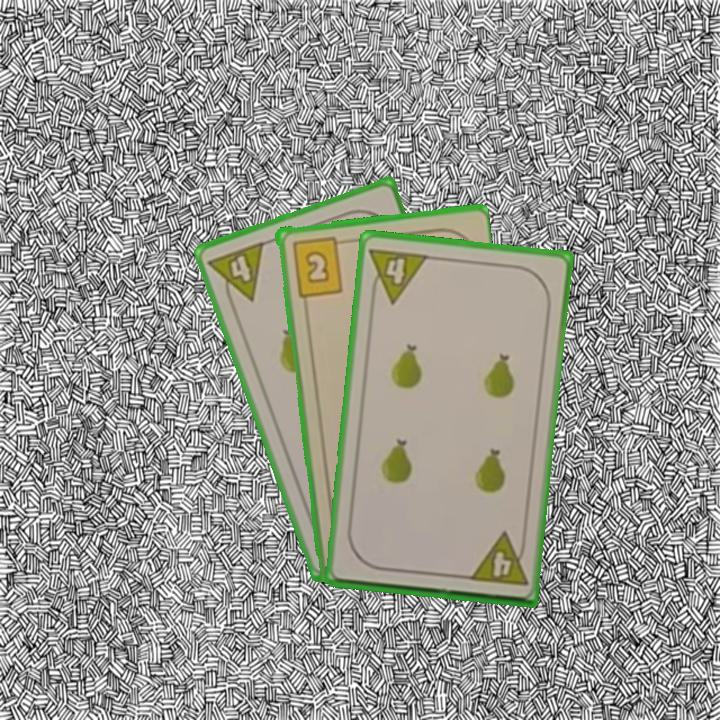2b: (288, 233, 349, 299)
4p: (204, 237, 267, 311), (366, 244, 431, 306), (465, 529, 530, 589)
